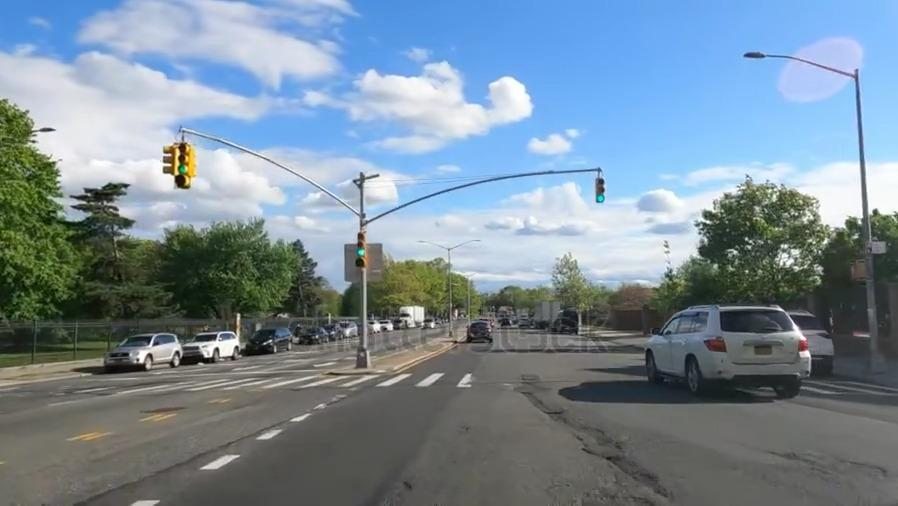car: (637, 301, 803, 403), (110, 333, 185, 375), (802, 308, 841, 367), (185, 329, 235, 362), (244, 323, 291, 355), (467, 318, 491, 342), (300, 327, 327, 343)
pedestrian: (34, 370, 894, 400)
person: (294, 321, 304, 333)
pothole: (601, 447, 625, 468), (543, 403, 565, 421)
road damage: (777, 443, 839, 477), (627, 455, 671, 499), (569, 422, 612, 457), (853, 453, 891, 487), (514, 368, 545, 398)
traffic light: (159, 133, 197, 195), (354, 224, 370, 273), (593, 171, 610, 206)
